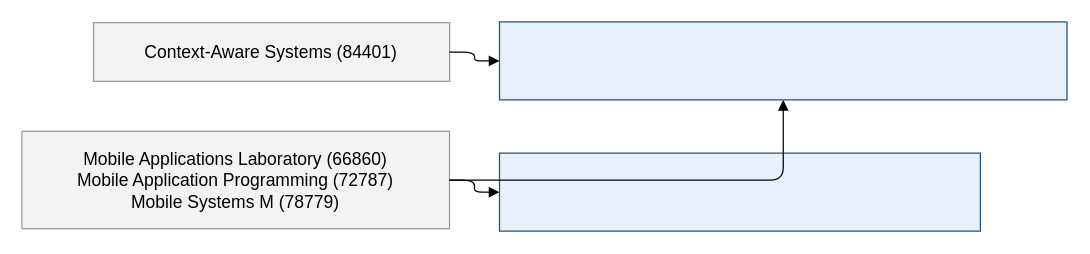
The diagram is 1090 pixels wide and 254 high, and some of its shapes have lost their labels. Each missing label, with the centre of its shape:
Mobile Systems and Middleware Application Capabilities 3 ECTS: pixel 782 60
Mobile Systems and Middleware Fundamentals 6 ECTS: pixel 739 191
